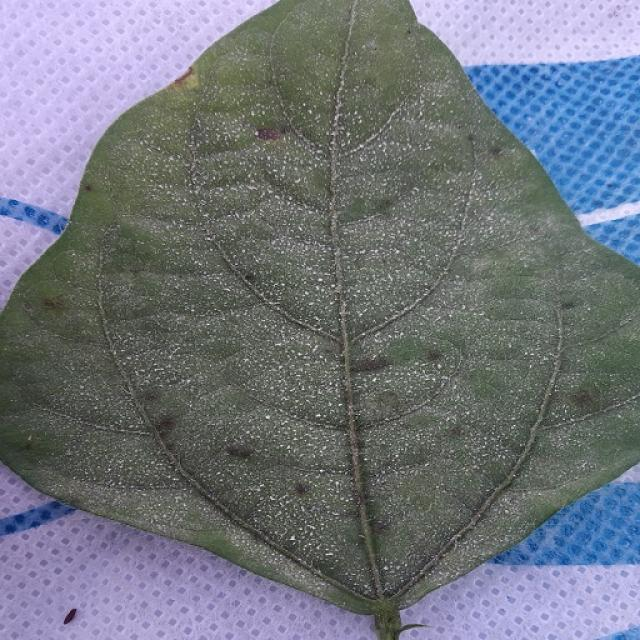Blackgram: (0, 0, 639, 639)
Powdery_Mildew: (411, 138, 594, 319), (360, 339, 501, 482), (519, 288, 636, 431), (101, 248, 204, 396), (358, 169, 459, 283), (224, 120, 335, 220), (233, 368, 345, 461), (434, 170, 539, 255), (384, 535, 501, 607), (237, 227, 331, 310), (116, 119, 203, 208), (477, 305, 556, 392), (229, 194, 319, 270), (262, 334, 346, 406), (113, 500, 220, 552), (461, 499, 541, 563), (377, 345, 458, 407), (264, 502, 340, 562), (380, 552, 409, 576), (357, 579, 383, 598), (362, 38, 379, 53), (311, 342, 320, 353), (269, 494, 277, 502), (527, 113, 534, 122), (383, 563, 390, 571), (288, 534, 296, 541), (357, 115, 363, 123), (250, 110, 256, 118), (308, 108, 314, 115), (265, 414, 271, 421), (437, 362, 443, 369)
